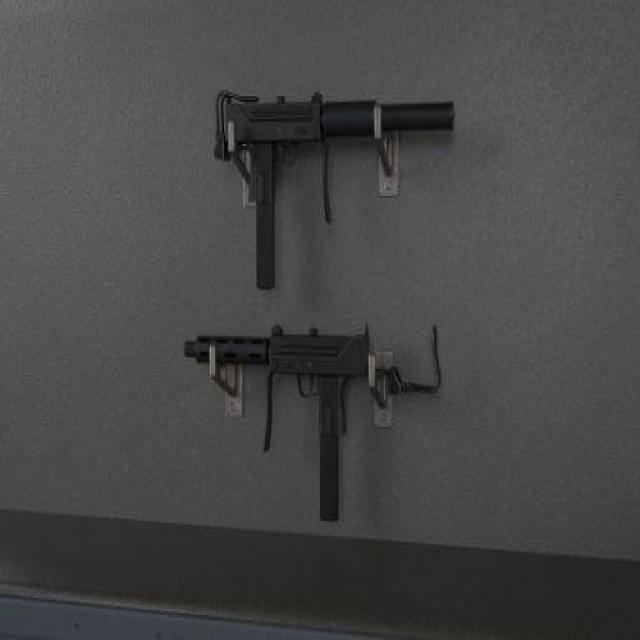Weapon: (179, 319, 448, 527), (211, 86, 460, 296)
